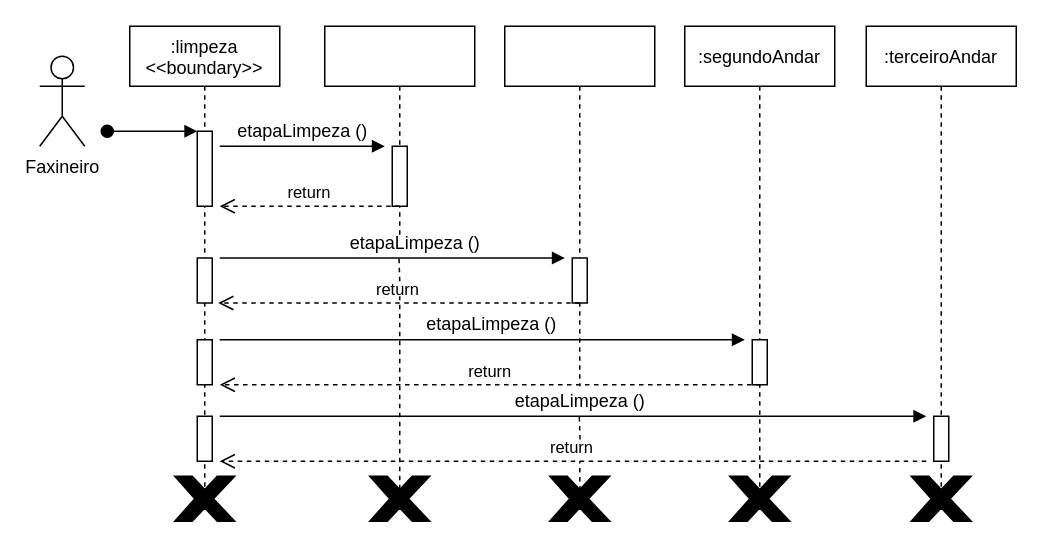
The diagram is 1043 pixels wide and 548 high, and some of its shapes have lost their labels. Each missing label, with the box of its shape:
:andarTerreo: (323, 25, 475, 236)
:primeiroAndar: (503, 25, 655, 386)
